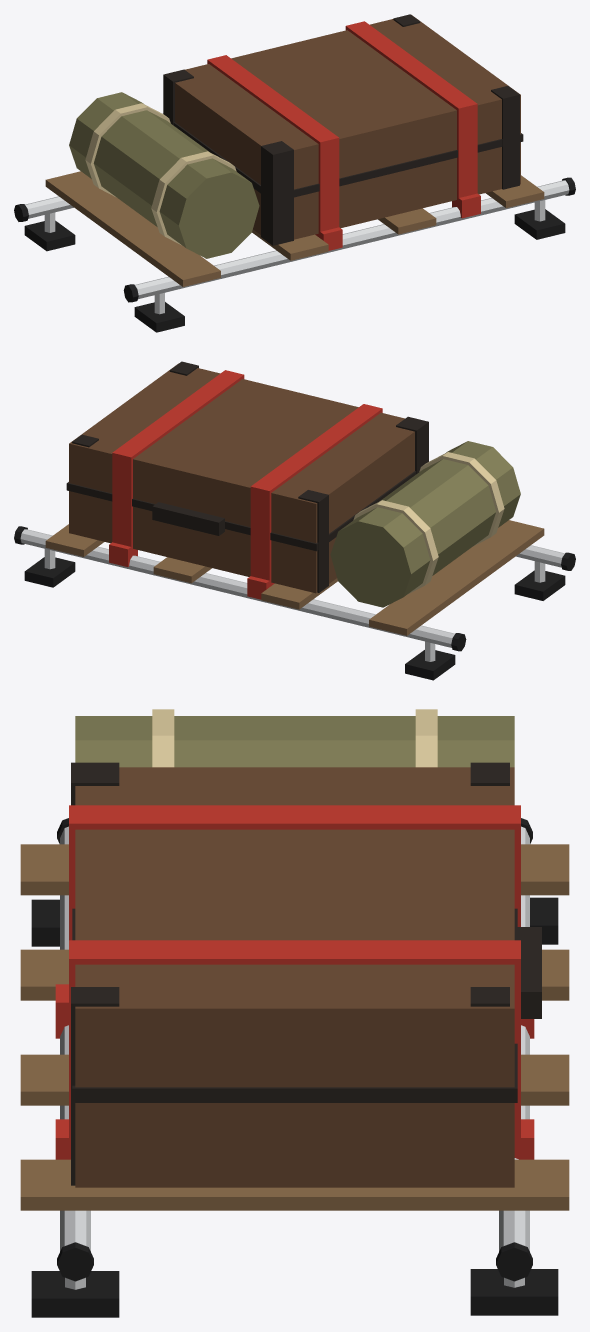
Rendered from roofrack_luggage_classic.glb.
3 views of the same model, one above another, from view 1: azimuth 30°, elevation 25°; view 2: azimuth 150°, elevation 25°; view 3: azimuth 270°, elevation 25° (orthographic). The views are drawn at different scales.
Visible parts, largest first — view 1: Suitcase, Tarp, Straps, RoofRack; view 2: Suitcase, Tarp, Straps, RoofRack; view 3: Suitcase, Straps, Tarp, RoofRack.
Part boxes in pixels (x1,y1,x2,y2): Suitcase: (45, 14, 544, 286); Tarp: (69, 92, 259, 258); Straps: (207, 21, 480, 250); RoofRack: (14, 177, 575, 332); Suitcase: (45, 361, 544, 635); Tarp: (330, 441, 520, 607); Straps: (109, 370, 382, 599); RoofRack: (14, 526, 575, 680); Suitcase: (20, 762, 569, 1210); Straps: (55, 805, 534, 1159); Tarp: (75, 709, 514, 767); RoofRack: (31, 818, 558, 1317).
Bounding box in the file's own units: 0.932 × 0.284 × 0.5.
